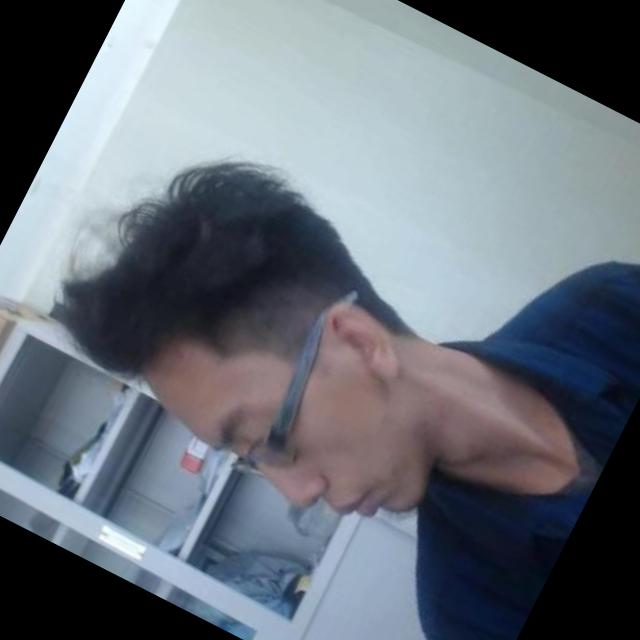bareface: (0, 48, 548, 630)
